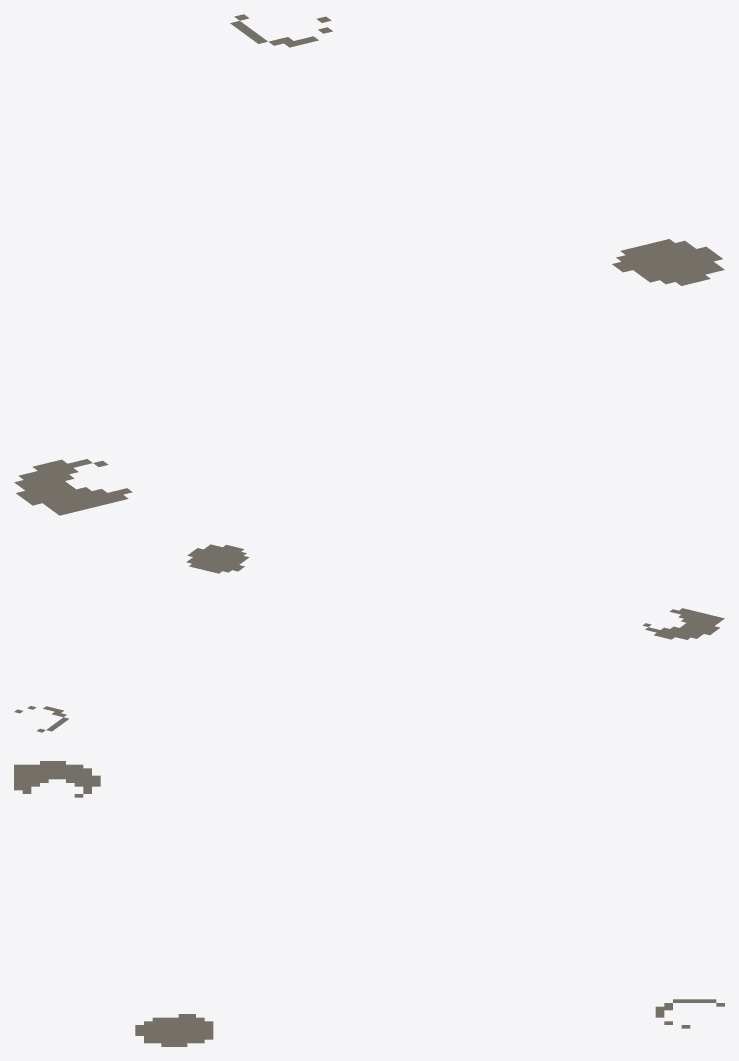
File: Isl-atoll5-RocksArea.fbx
3 renders of one model, top to bottom at view 1: azimuth 30°, elevation 25°; view 2: azimuth 150°, elevation 25°; view 3: azimuth 270°, elevation 25°, orthographic. The views are drawn at different scales.
Parts seen in each view (by area): view 1: Isl-atoll5-RocksArea; view 2: Isl-atoll5-RocksArea; view 3: Isl-atoll5-RocksArea.
Boxes of the visible parts, x1=… form: Isl-atoll5-RocksArea: x1=14, y1=14, x2=724, y2=515; Isl-atoll5-RocksArea: x1=14, y1=544, x2=724, y2=732; Isl-atoll5-RocksArea: x1=14, y1=761, x2=724, y2=1046.
Bounding box in the file's own units: 78 × 0 × 82.
